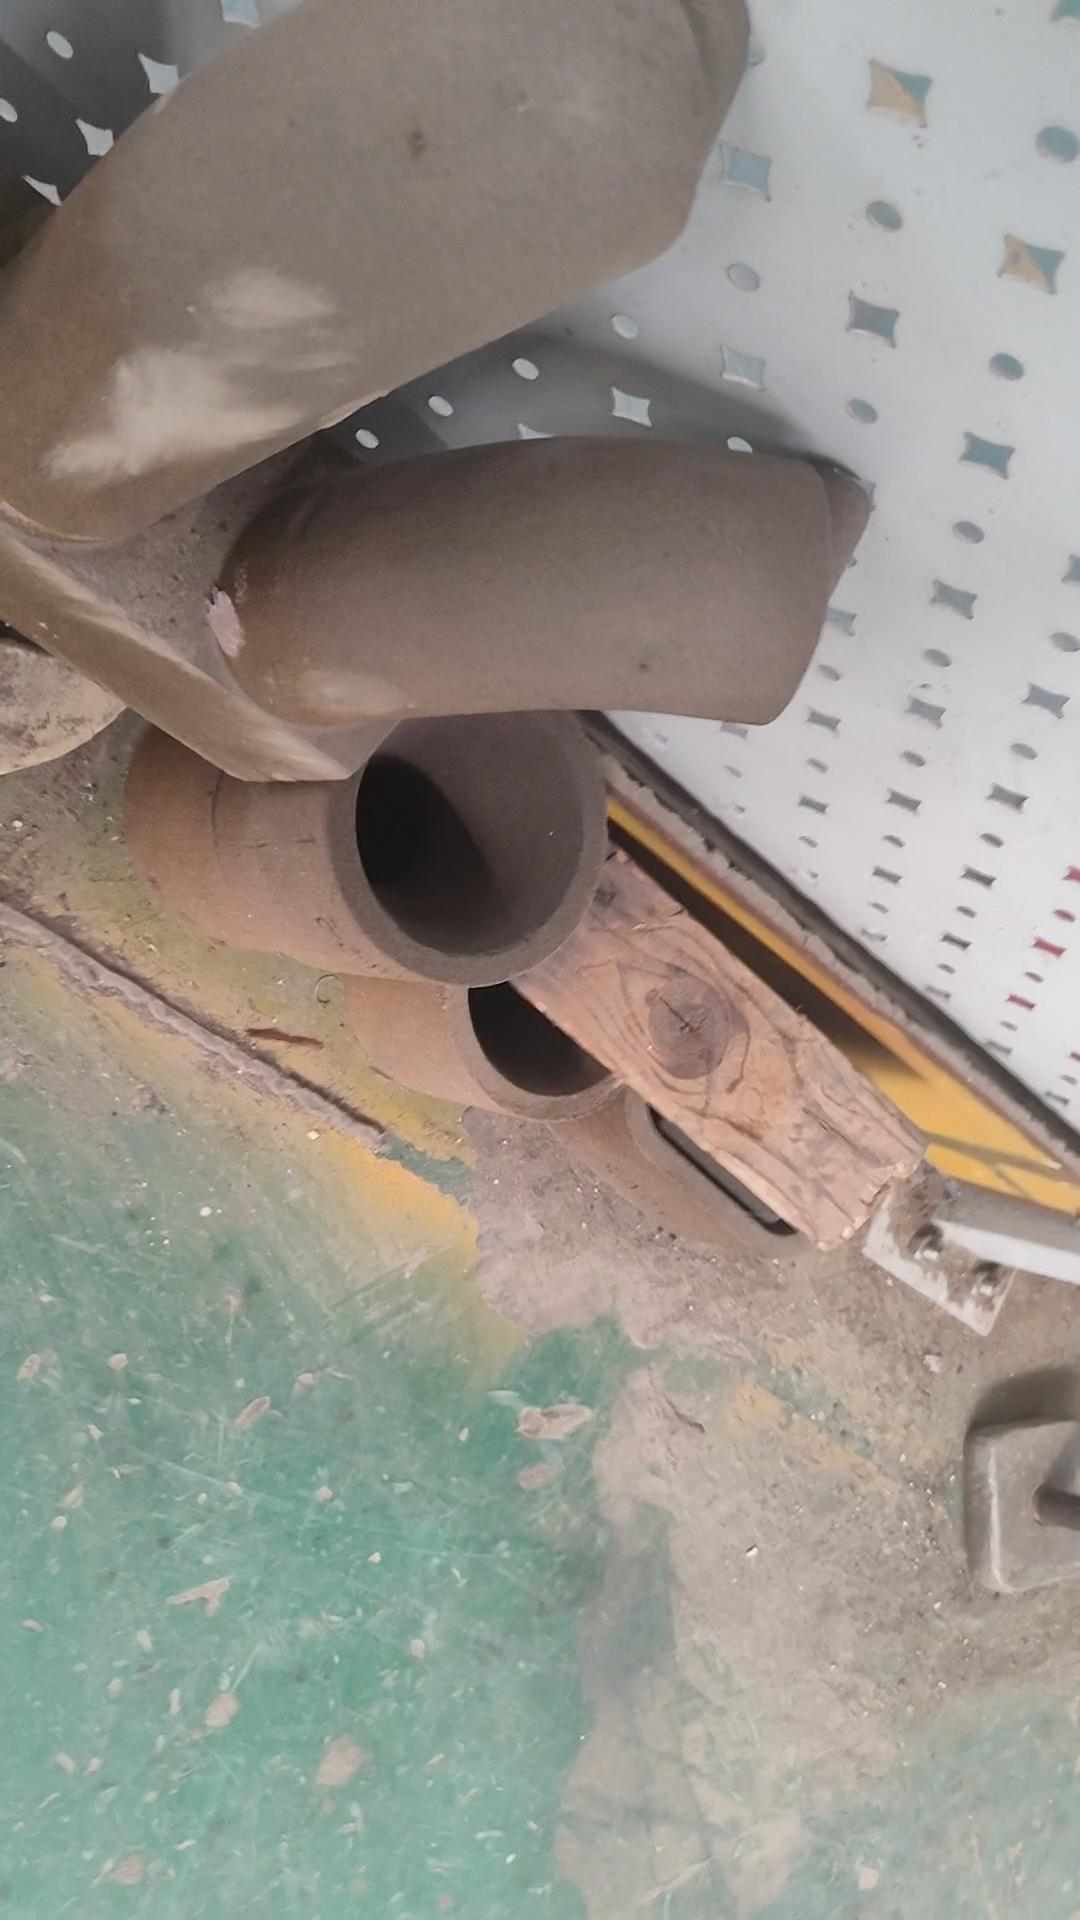pouring hole: (355, 708, 585, 957), (465, 931, 632, 1098)
